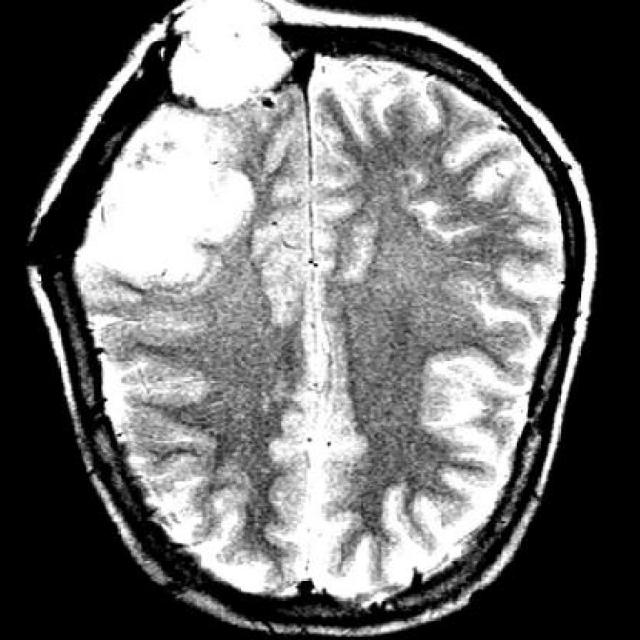Tumor: (164, 0, 310, 109)
